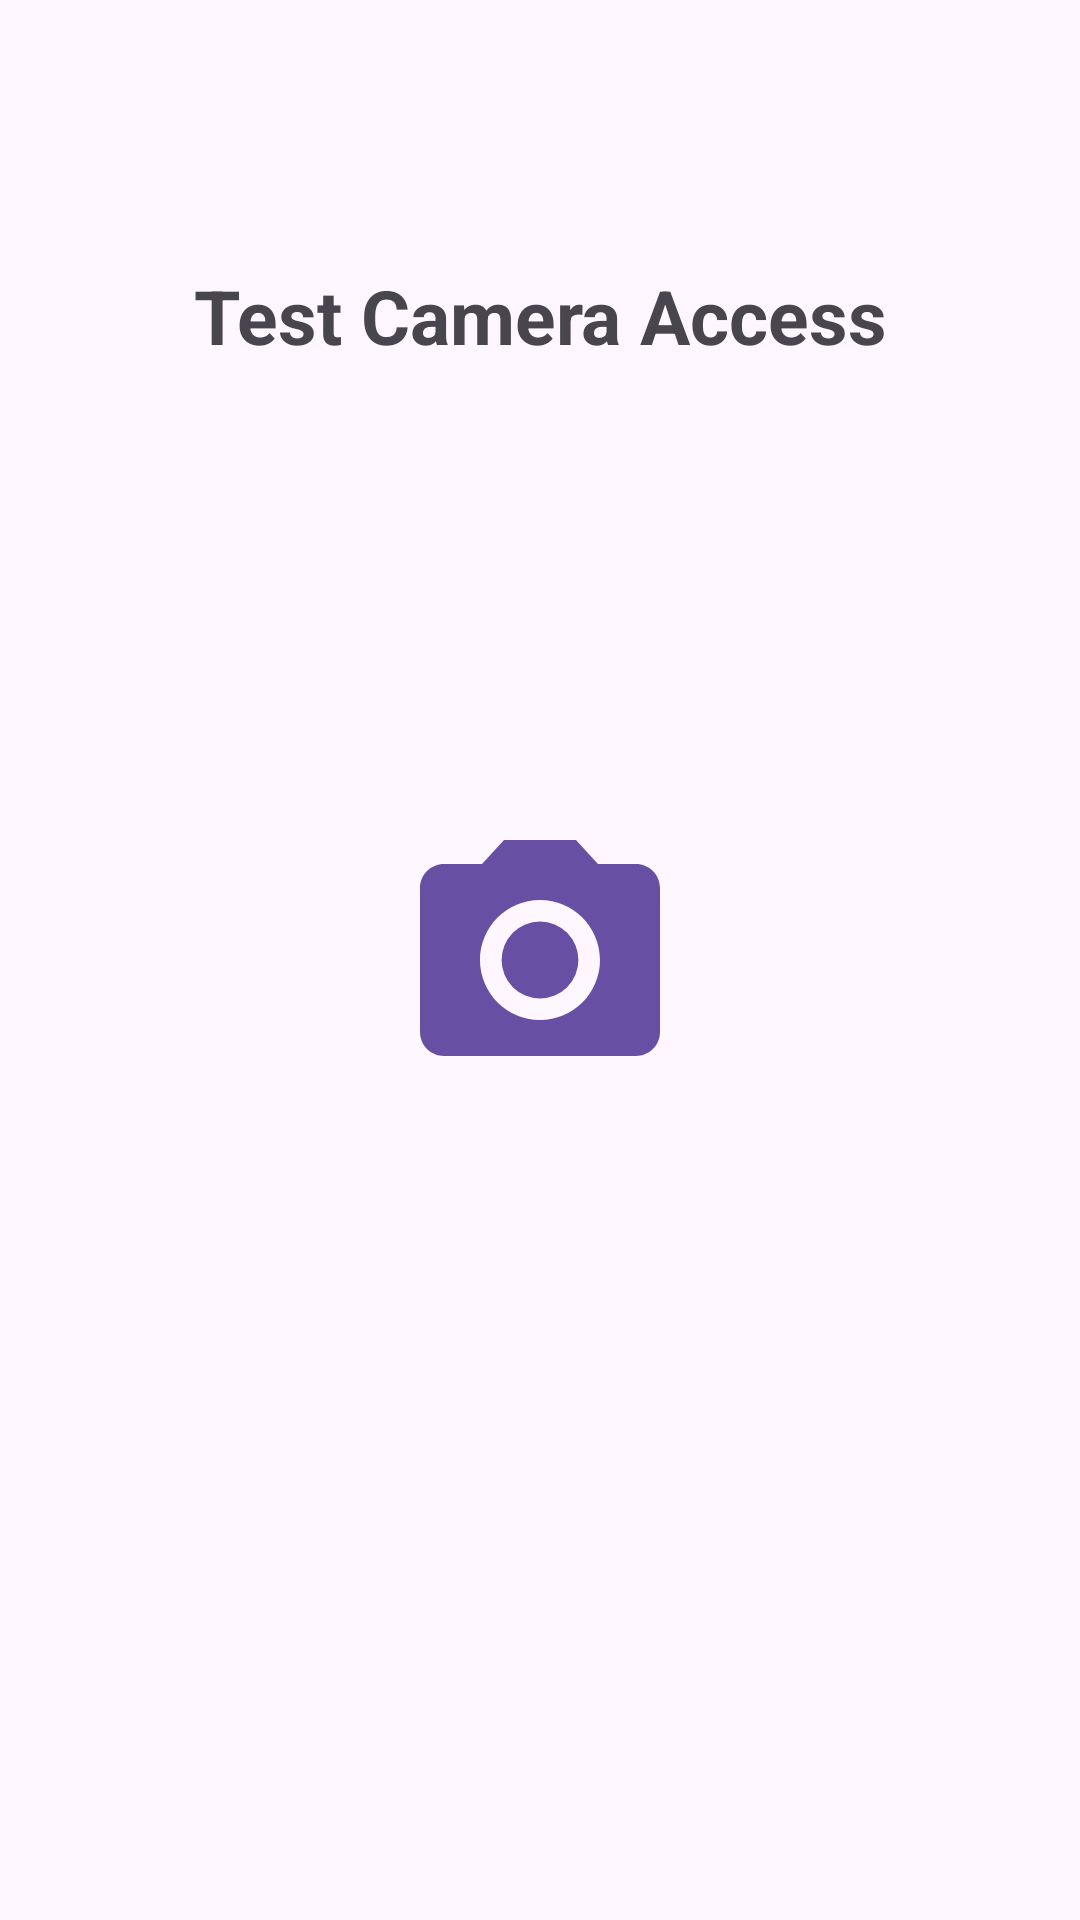

Named icons in this screenshot (1080 x 1920) and their bounding boxes, (x1, y1, x2, y2):
camera: (420, 840, 660, 1056)
